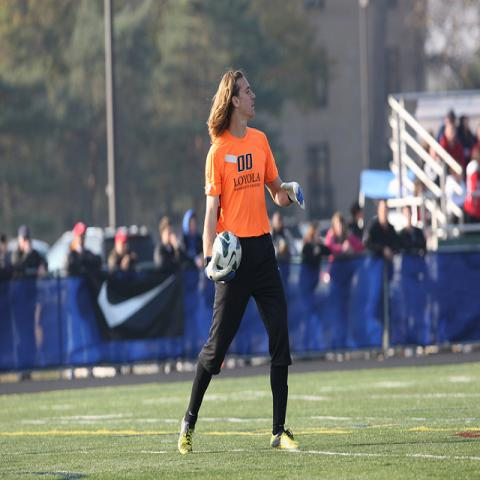car: (46, 226, 155, 274)
